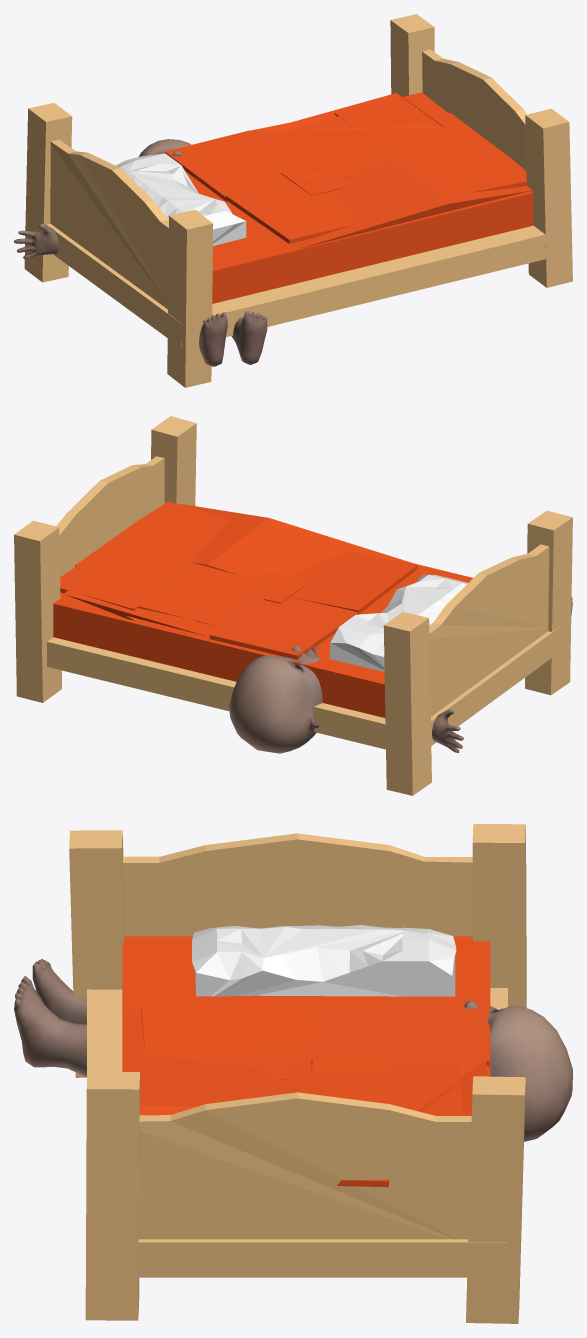
The model's file is bed.fbx.
The picture shows the model from 3 angles, top to bottom: view 1: azimuth 30°, elevation 25°; view 2: azimuth 150°, elevation 25°; view 3: azimuth 270°, elevation 25°; orthographic projection. The views are drawn at different scales.
Parts seen in each view (by area): view 1: group94422882, body; view 2: group94422882, body; view 3: group94422882, body.
Boxes of the visible parts, x1,y1,x2,y2 form: group94422882: (24, 14, 572, 387); body: (14, 139, 267, 366); group94422882: (14, 416, 572, 795); body: (229, 597, 572, 753); group94422882: (69, 824, 526, 1323); body: (14, 959, 572, 1141).
Size of the model in its own units: 271 by 103 by 216.
